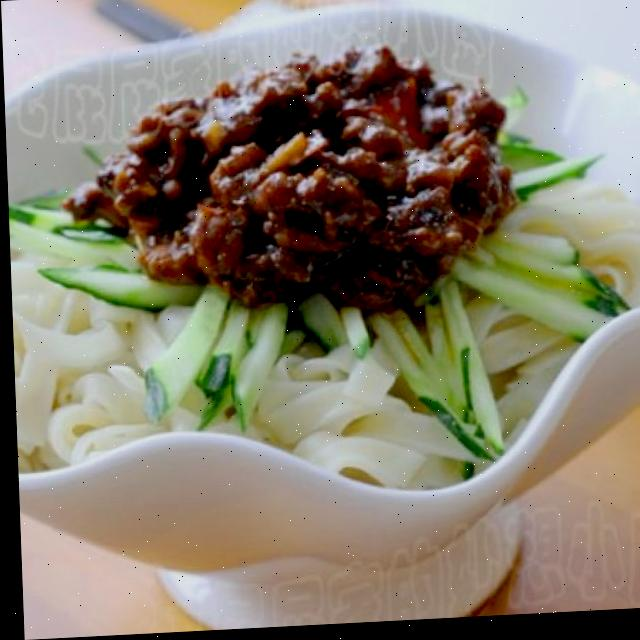面条主食: (2, 33, 640, 512)
